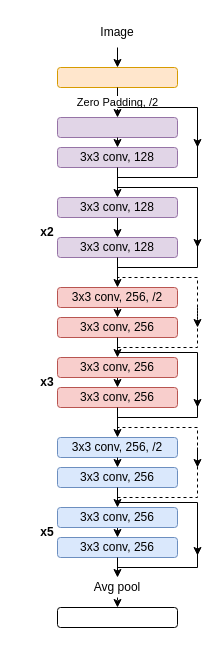
Image size: 223x645. Some labels were removed from this diagram. The centre of each missing label's shape, as x and y in pixels:
"3x3 conv, 128, /2" belongs at pixel 117 127.
"5x5 conv, 64, /2" belongs at pixel 117 77.
"fc 1000" belongs at pixel 117 617.
